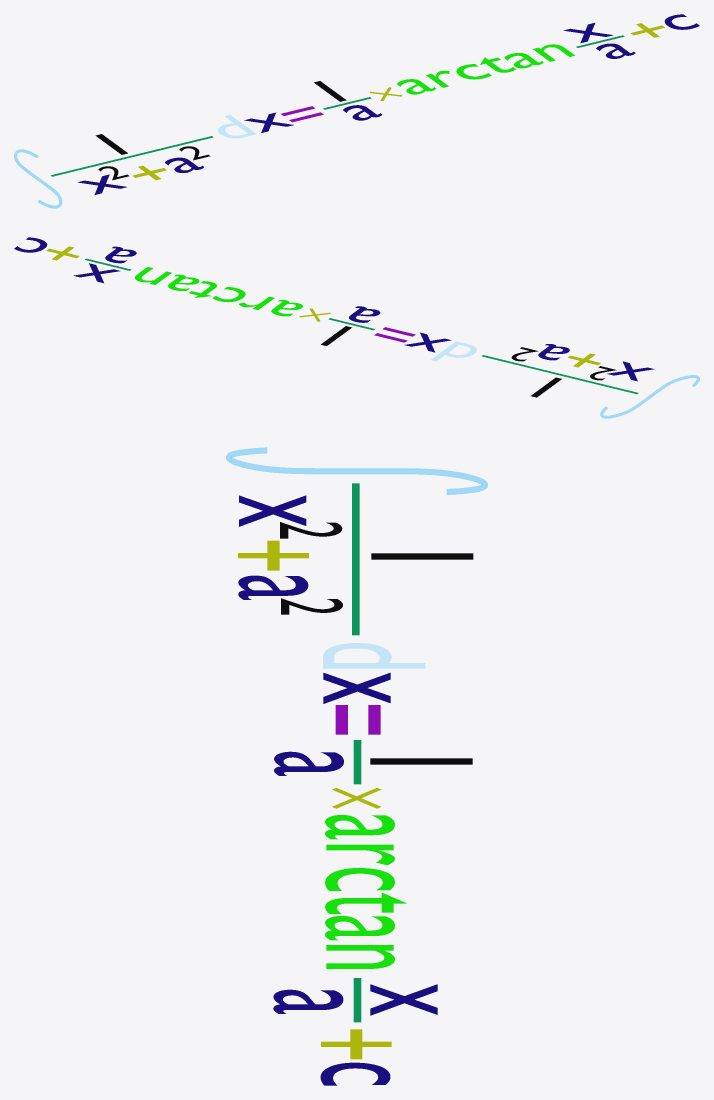
The model's file is int1pexla2plusala2(2).glb.
The picture shows the model from 3 angles, top to bottom: view 1: azimuth 30°, elevation 25°; view 2: azimuth 150°, elevation 25°; view 3: azimuth 270°, elevation 25°; orthographic projection. The views are drawn at different scales.
Parts seen in each view (by area): view 1: int din 1 pe x la 2 plus a la 2 dx; view 2: int din 1 pe x la 2 plus a la 2 dx; view 3: int din 1 pe x la 2 plus a la 2 dx.
Boxes of the visible parts, left/top/right/bottom form: int din 1 pe x la 2 plus a la 2 dx: left=14, top=14, right=699, bottom=208; int din 1 pe x la 2 plus a la 2 dx: left=14, top=237, right=699, bottom=418; int din 1 pe x la 2 plus a la 2 dx: left=226, top=447, right=487, bottom=1085.
Bounding box in the file's own units: 10.05 × 0.0401 × 1.75.
